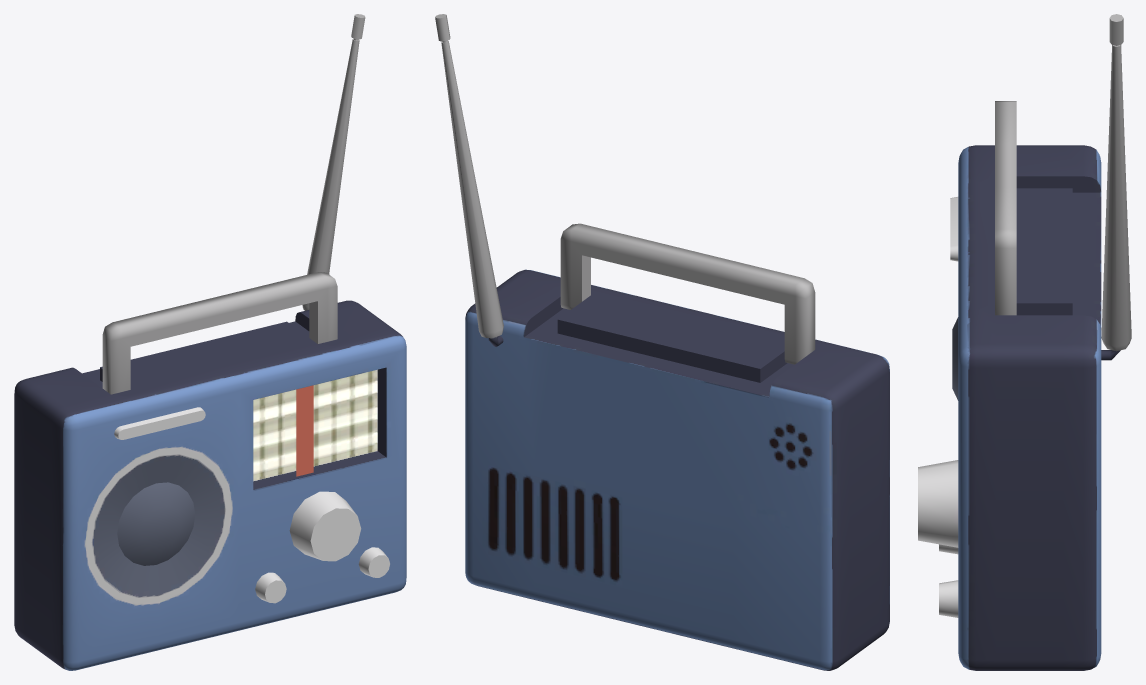
Rendered from Radio.fbx.
3 renders of one model, left to right at view 1: azimuth 30°, elevation 25°; view 2: azimuth 150°, elevation 25°; view 3: azimuth 270°, elevation 25°, orthographic. The views are drawn at different scales.
Visible parts, largest first — view 1: SM_Radio; view 2: SM_Radio; view 3: SM_Radio.
Boxes of the visible parts, bbox=[...] form: SM_Radio: bbox=[14, 14, 406, 670]; SM_Radio: bbox=[435, 14, 889, 670]; SM_Radio: bbox=[918, 14, 1131, 670].
Size of the model in its own units: 55 by 77.03 by 22.38.
